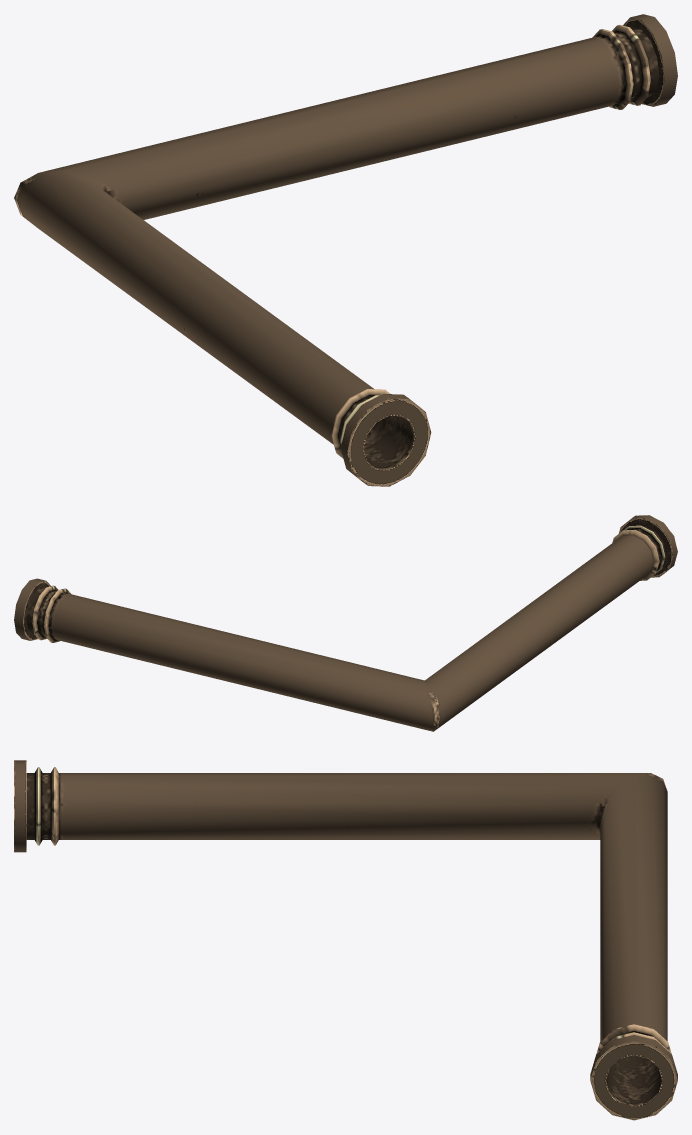
File: pipe16.FBX
3 renders of one model, top to bottom at view 1: azimuth 30°, elevation 25°; view 2: azimuth 150°, elevation 25°; view 3: azimuth 270°, elevation 25°, orthographic. The views are drawn at different scales.
Visible parts, largest first — view 1: pipe16; view 2: pipe16; view 3: pipe16.
Part boxes in pixels (x1,y1,x2,y2): pipe16: (14, 14, 677, 486); pipe16: (14, 515, 677, 731); pipe16: (14, 760, 677, 1120).
Bounding box in the file's own units: 118 × 15.62 × 112.
